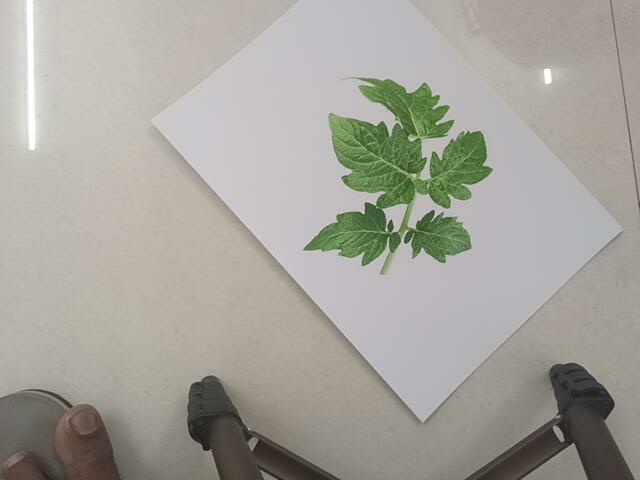Tomamto_Leaf_Healthy: (306, 71, 507, 287)
